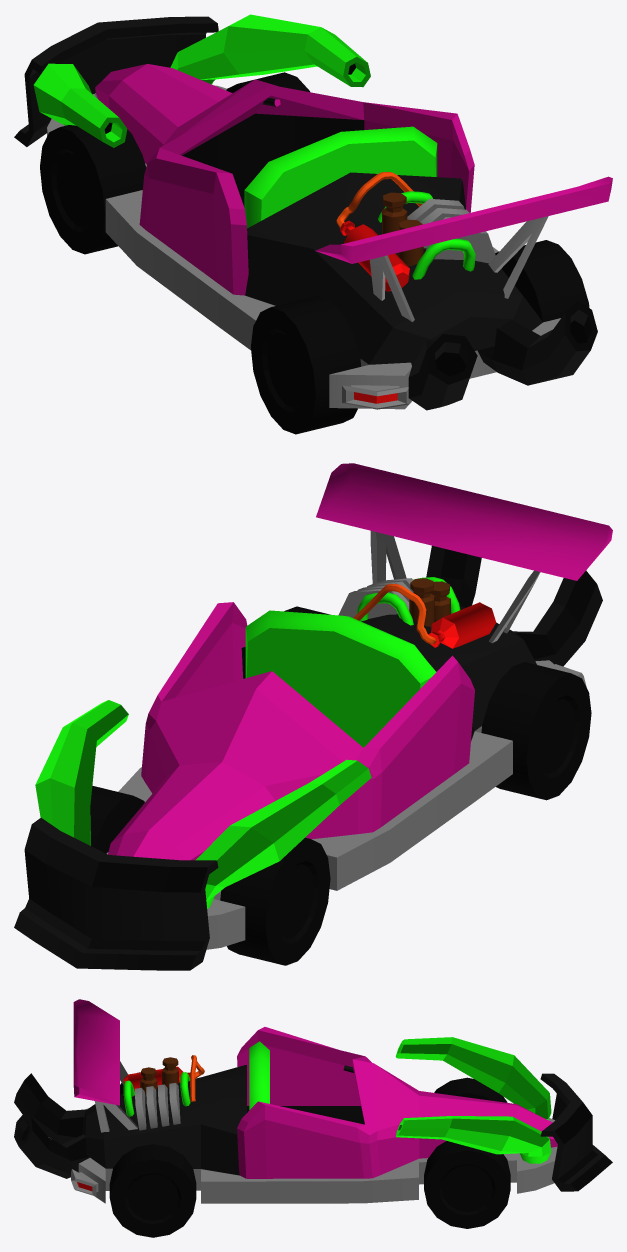
The model's file is car-parsche-sport-green_14.fbx.
3 renders of one model, top to bottom at view 1: azimuth 30°, elevation 25°; view 2: azimuth 150°, elevation 25°; view 3: azimuth 270°, elevation 25°, orthographic. The views are drawn at different scales.
Parts seen in each view (by area): view 1: car-parsche-sport-green_14, wheel_3, wheel_1, wheel_4, wheel_2; view 2: car-parsche-sport-green_14, wheel_3, wheel_1, wheel_2; view 3: car-parsche-sport-green_14, wheel_4, wheel_2, wheel_1.
Part boxes in pixels (x1=…): car-parsche-sport-green_14: x1=14, y1=14, x2=612, y2=410; wheel_3: x1=251, y1=295, x2=361, y2=434; wheel_1: x1=40, y1=125, x2=146, y2=254; wheel_4: x1=495, y1=240, x2=589, y2=322; wheel_2: x1=226, y1=72, x2=309, y2=93; car-parsche-sport-green_14: x1=14, y1=463, x2=612, y2=970; wheel_3: x1=481, y1=662, x2=591, y2=800; wheel_1: x1=220, y1=837, x2=330, y2=965; wheel_2: x1=90, y1=785, x2=144, y2=853; car-parsche-sport-green_14: x1=14, y1=999, x2=612, y2=1203; wheel_4: x1=109, y1=1144, x2=196, y2=1237; wheel_2: x1=424, y1=1141, x2=510, y2=1228; wheel_1: x1=434, y1=1077, x2=507, y2=1102.
Size of the model in its own units: 1.04 by 2.93 by 0.8079.
